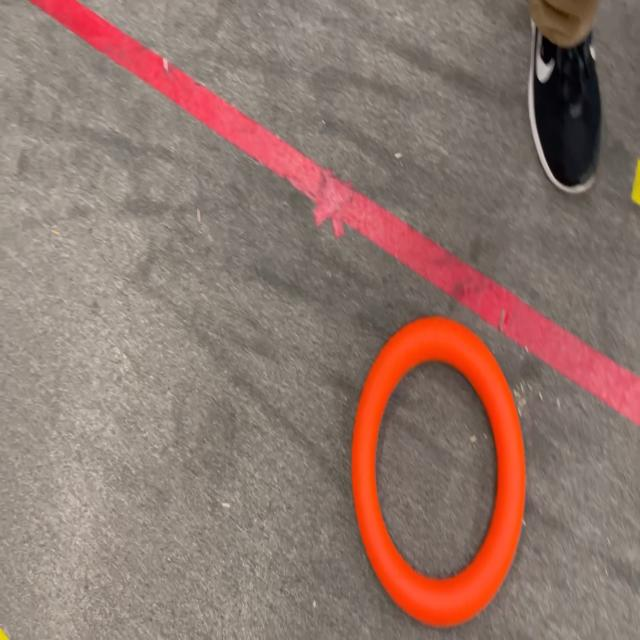note: (351, 313, 527, 623)
